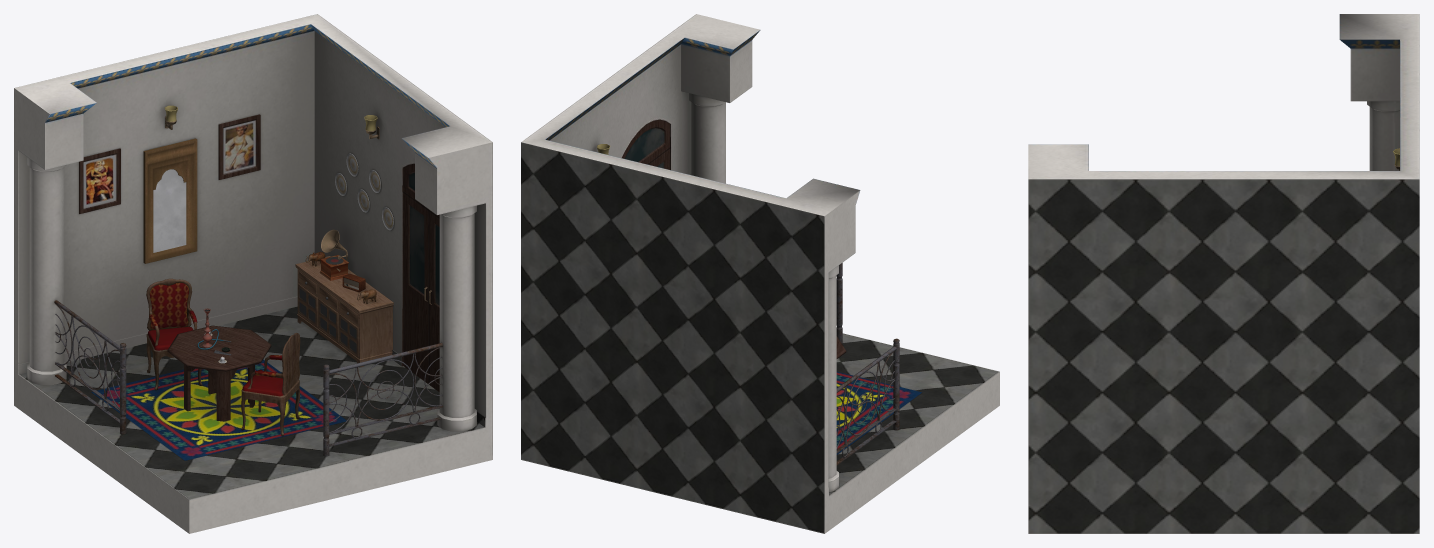
Rendered from royal_indian_balcony_small.glb.
3 renders of one model, left to right at view 1: azimuth 30°, elevation 25°; view 2: azimuth 150°, elevation 25°; view 3: azimuth 270°, elevation 25°, orthographic. The views are drawn at different scales.
Parts seen in each view (by area): view 1: Cylinder011; view 2: Cylinder011; view 3: Cylinder011.
Boxes of the visible parts, left/top/right/bottom form: Cylinder011: left=14, top=14, right=492, bottom=533; Cylinder011: left=521, top=14, right=999, bottom=533; Cylinder011: left=1028, top=14, right=1419, bottom=533.
Size of the model in its own units: 69.38 by 69.38 by 69.38.
Materials: 1 (1 with a texture image).
